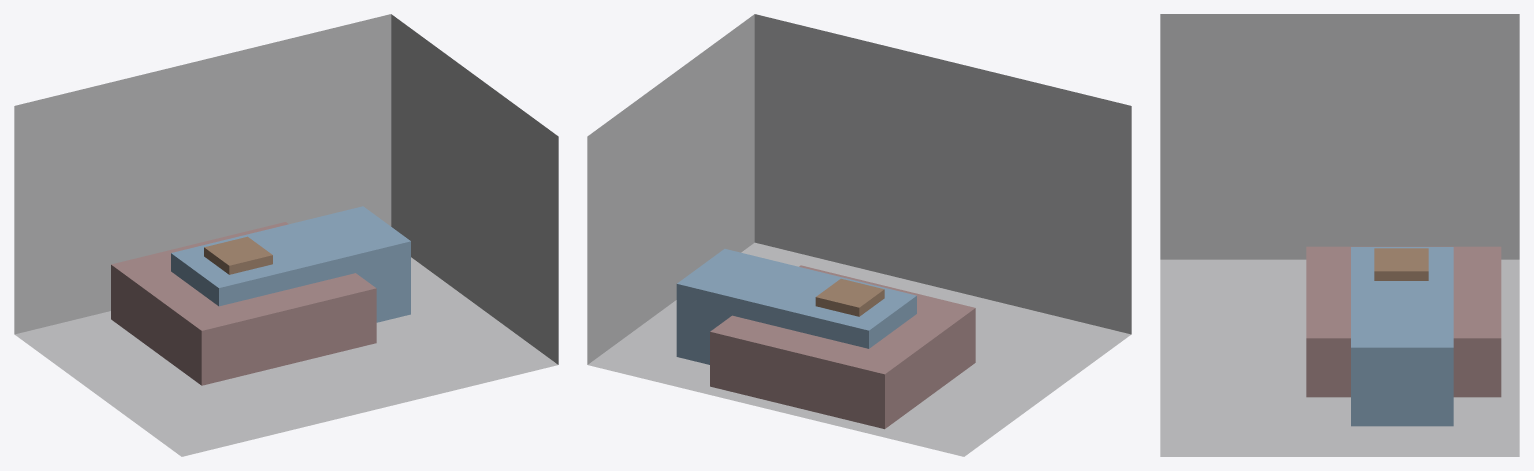
Rendered from optimised_layout.glb.
3 views of the same model, side by side, from view 1: azimuth 30°, elevation 25°; view 2: azimuth 150°, elevation 25°; view 3: azimuth 270°, elevation 25° (orthographic). The views are drawn at different scales.
Parts seen in each view (by area): view 1: room, bed, couch, chair; view 2: room, bed, couch, chair; view 3: room, couch, bed, chair.
Boxes of the visible parts, <box> form: room: <box>14,14,558,456</box>; bed: <box>111,222,376,385</box>; couch: <box>171,206,410,322</box>; chair: <box>204,236,272,274</box>; room: <box>587,14,1131,456</box>; bed: <box>710,265,975,429</box>; couch: <box>676,249,916,364</box>; chair: <box>815,278,884,316</box>; room: <box>1160,14,1519,456</box>; couch: <box>1351,247,1453,426</box>; bed: <box>1306,246,1501,397</box>; chair: <box>1374,248,1428,280</box>.
Size of the model in its own units: 4.31 by 2.5 by 3.32.
